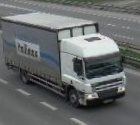truck: (1, 8, 128, 113)
